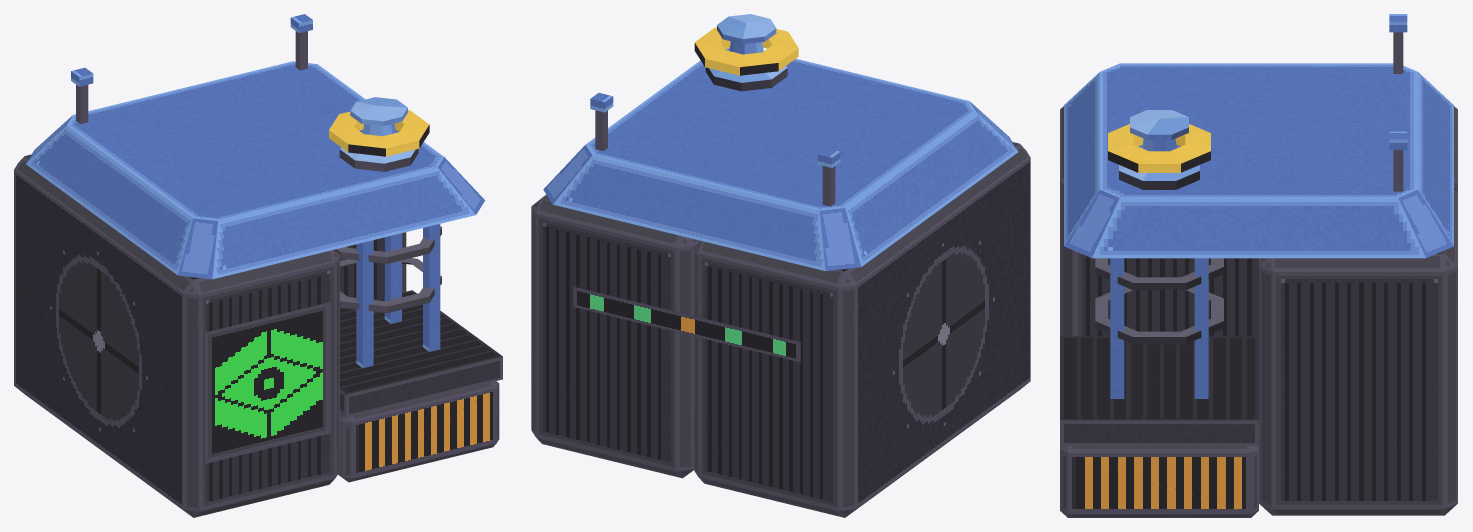
File: seller.glb
The picture shows the model from 3 angles, left to right: view 1: azimuth 30°, elevation 25°; view 2: azimuth 150°, elevation 25°; view 3: azimuth 270°, elevation 25°; orthographic projection. The views are drawn at different scales.
Visible parts, largest first — view 1: seller_body, seller_ring; view 2: seller_body, seller_ring; view 3: seller_body, seller_ring.
Boxes of the visible parts, bbox=[...] form: seller_body: bbox=[14, 14, 502, 517]; seller_ring: bbox=[329, 110, 429, 156]; seller_body: bbox=[531, 14, 1030, 517]; seller_ring: bbox=[694, 27, 798, 75]; seller_body: bbox=[1060, 14, 1457, 517]; seller_ring: bbox=[1108, 124, 1210, 172].
Size of the model in its own units: 2 by 2 by 2.01.
Materials: 1 (1 with a texture image).
